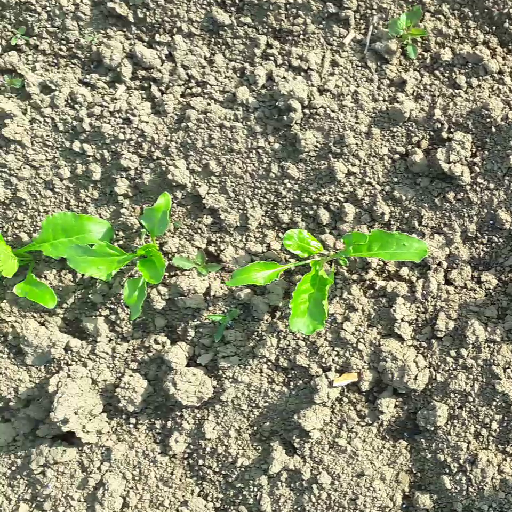sugarbeet: (225, 222, 432, 340), (63, 184, 175, 325), (1, 205, 116, 310)
weed: (383, 4, 429, 60), (167, 247, 227, 279), (202, 307, 244, 342), (3, 25, 30, 48), (1, 71, 26, 95), (169, 216, 183, 230)
